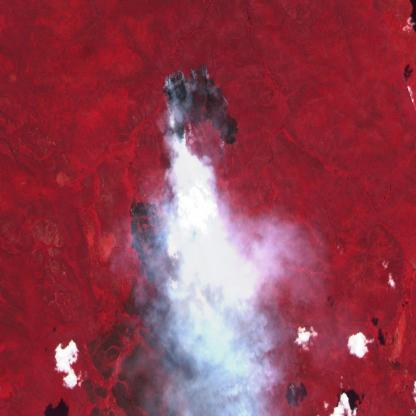fire: (158, 58, 242, 164), (126, 196, 171, 224)
